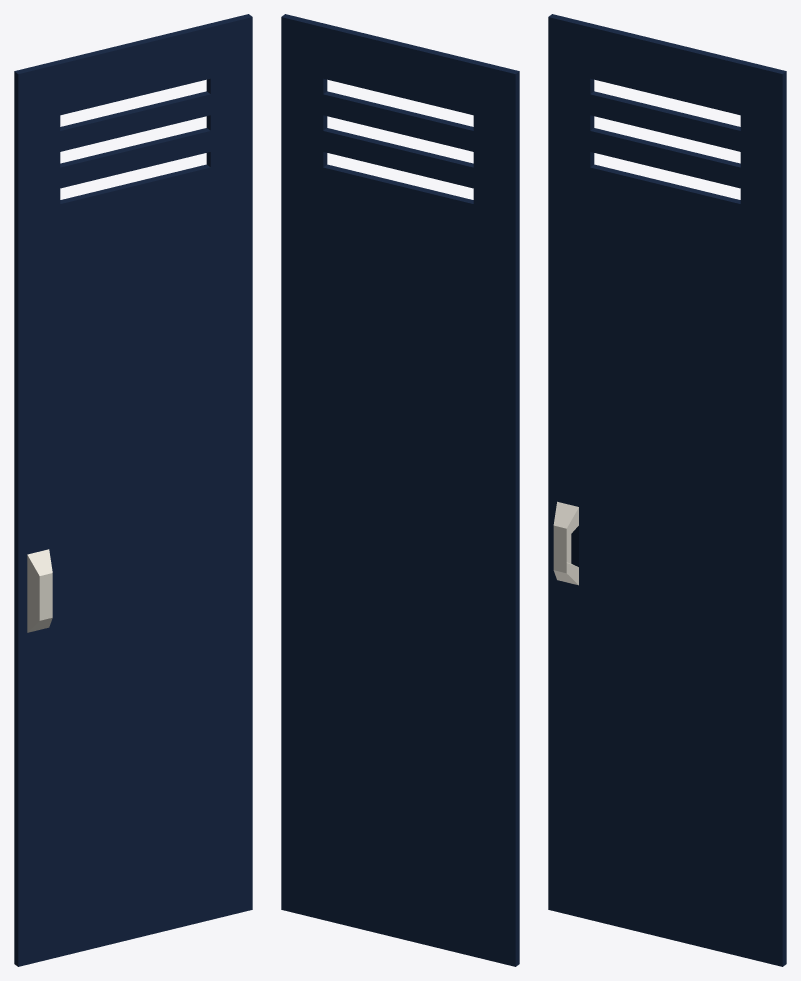
File: Locker_Door.fbx
3 views of the same model, side by side, from view 1: azimuth 30°, elevation 25°; view 2: azimuth 150°, elevation 25°; view 3: azimuth 330°, elevation 25° (orthographic).
Parts seen in each view (by area): view 1: Door_Locker; view 2: Door_Locker; view 3: Door_Locker.
Part boxes in pixels (<box>): Door_Locker: <box>14,14,252,966</box>; Door_Locker: <box>281,14,519,966</box>; Door_Locker: <box>548,14,786,966</box>.
Size of the model in its own units: 0.4384 by 1.59 by 0.0392.
